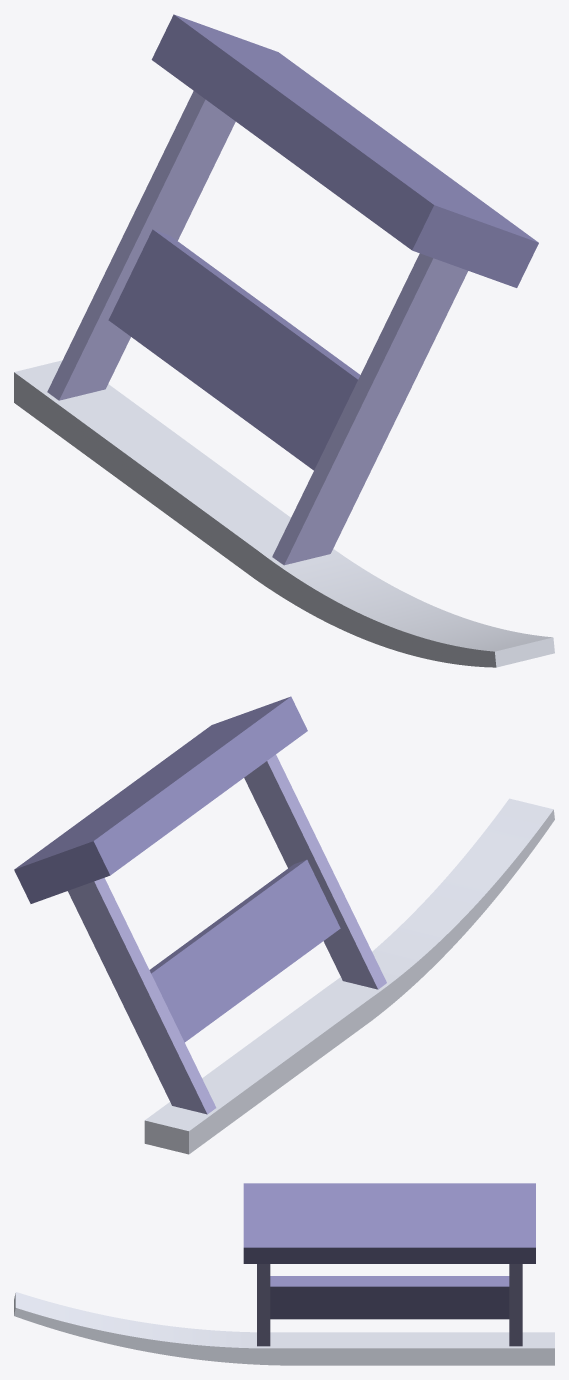
The model's file is helicopter_right_leg.glb.
3 renders of one model, top to bottom at view 1: azimuth 30°, elevation 25°; view 2: azimuth 150°, elevation 25°; view 3: azimuth 270°, elevation 25°, orthographic. The views are drawn at different scales.
Visible parts, largest first — view 1: mergedBlocks(Clone); view 2: mergedBlocks(Clone); view 3: mergedBlocks(Clone).
Boxes of the visible parts, x1,y1,x2,y2 form: mergedBlocks(Clone): [14, 14, 554, 667]; mergedBlocks(Clone): [14, 696, 554, 1154]; mergedBlocks(Clone): [14, 1183, 554, 1365].
Size of the model in its own units: 0.6339 by 0.895 by 2.14.
